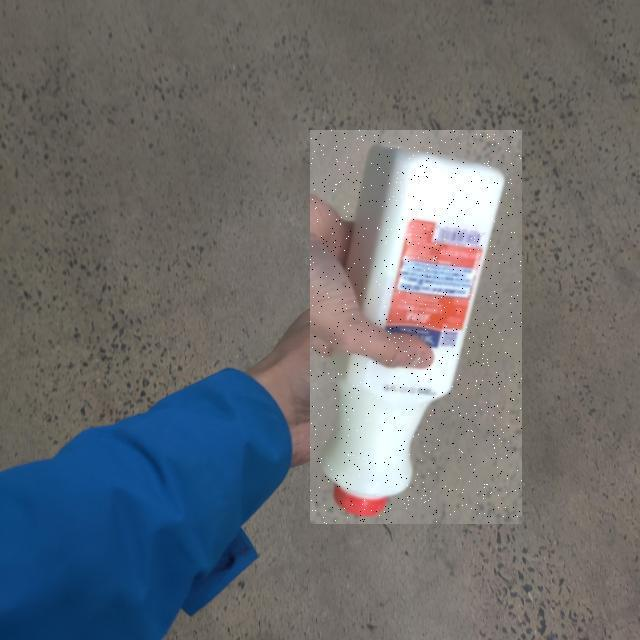Milk: (310, 130, 522, 524)
